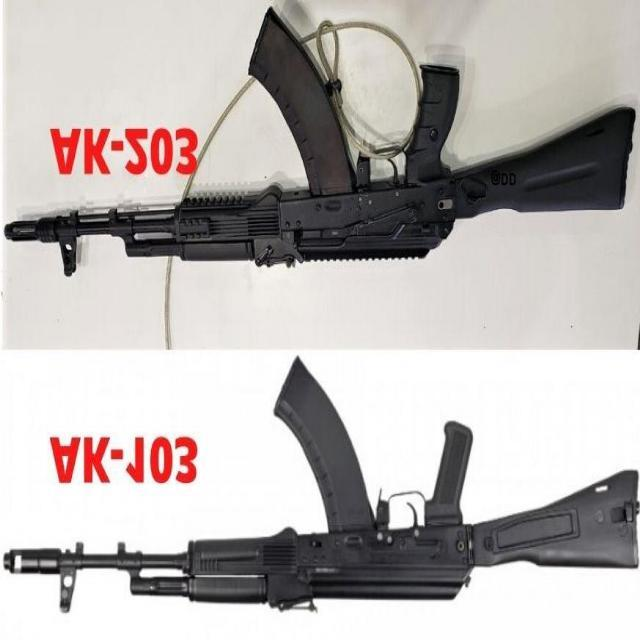weapon: (4, 6, 636, 277), (2, 351, 640, 614)
